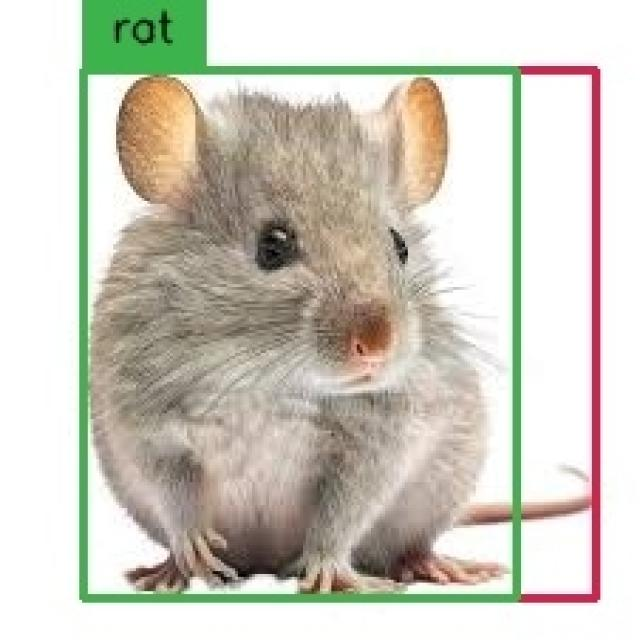rat: (85, 71, 595, 598), (85, 71, 515, 598)
